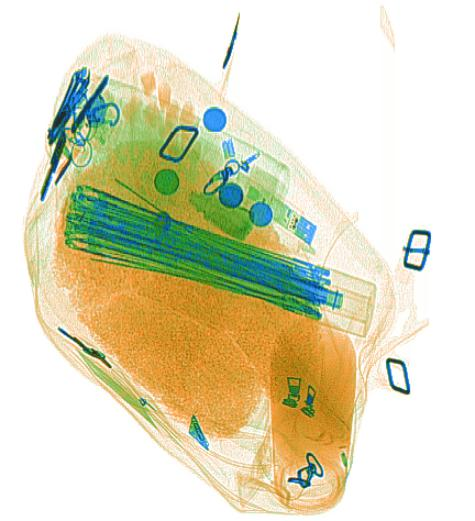USBFlashDisk: (243, 183, 319, 245)
